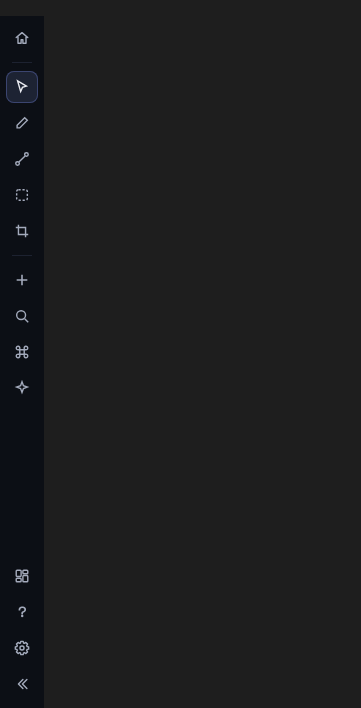
Scenario: panel over the board › the Board button opens the Board panel
Click the button named "Board e sessão". click: (22,576)
box: 6,560 -> 38,592
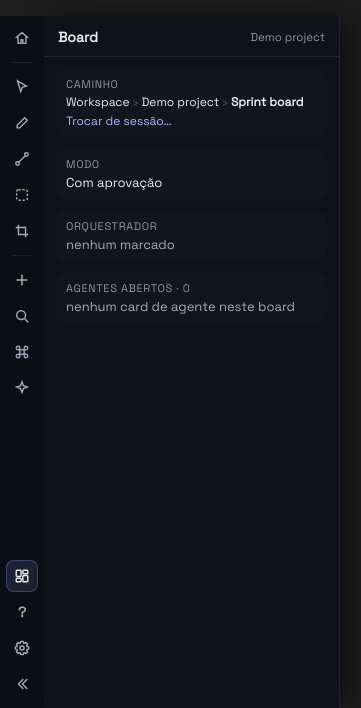
Now the element that starts with "Caminho" is shown, box 56,69 -> 327,323
